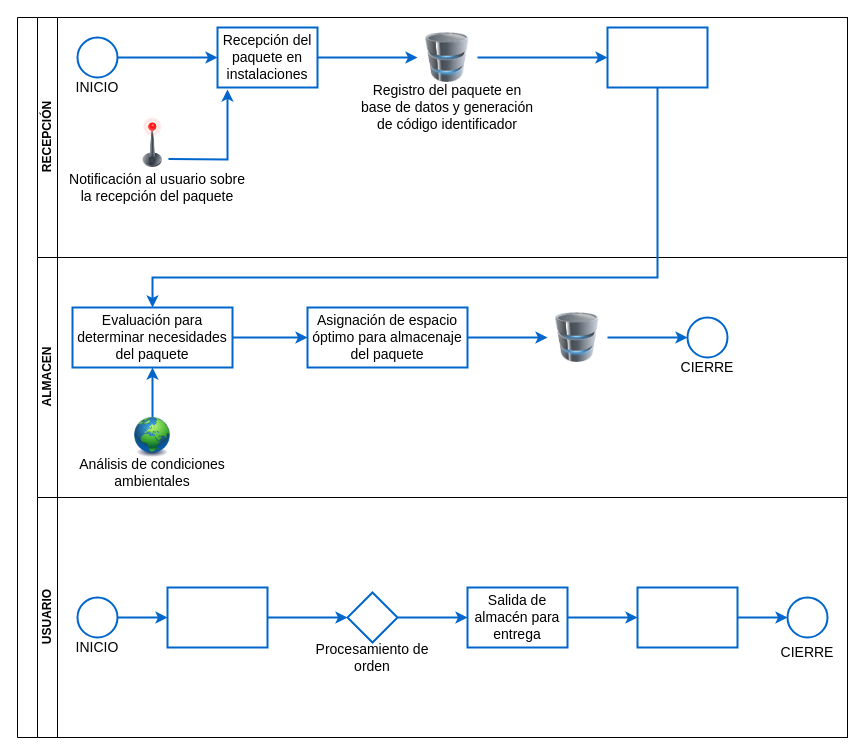
This 865x755 diagram has some shape labels left out. Here are the shapes that lost their labels. From the top down, the box of each, then its label:
(606, 26, 708, 88): Recepción del paquete en almacén
(166, 586, 268, 648): Solicitud de entrega del paquete
(636, 586, 738, 648): Entrega de paquete
